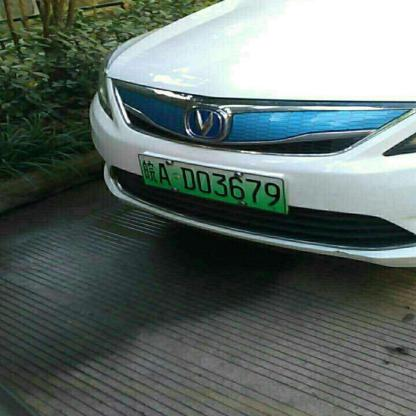lp: (139, 154, 286, 211)
